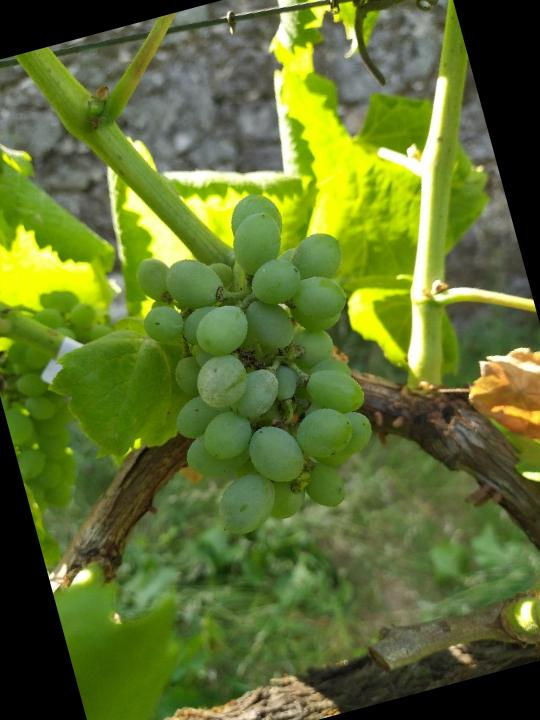grape: (116, 171, 412, 549)
